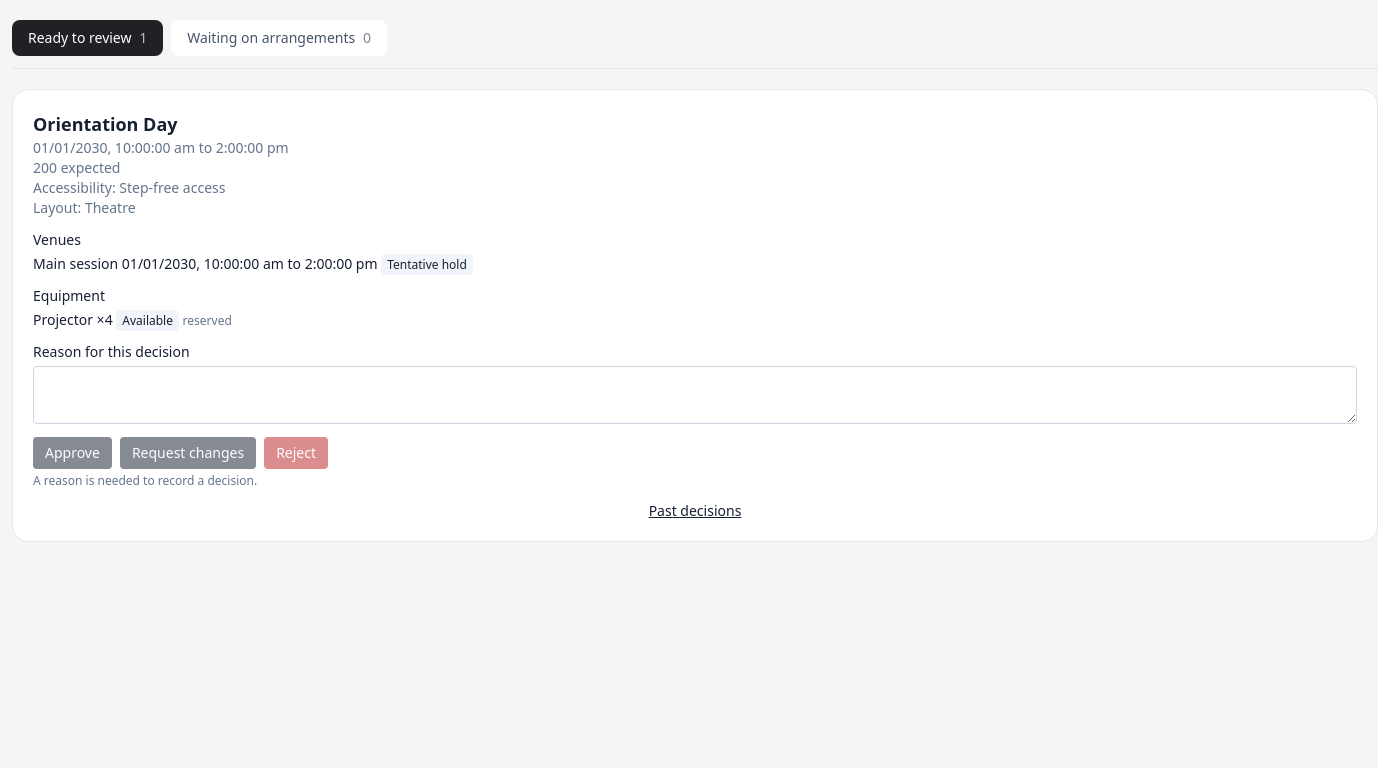
Test case: rejecting says the plan goes back to the Coordinator
Step 1. Type "Exit route is blocked." into the text box labelled "Reason for this decision" → (695,395), box [33,366,1357,424]
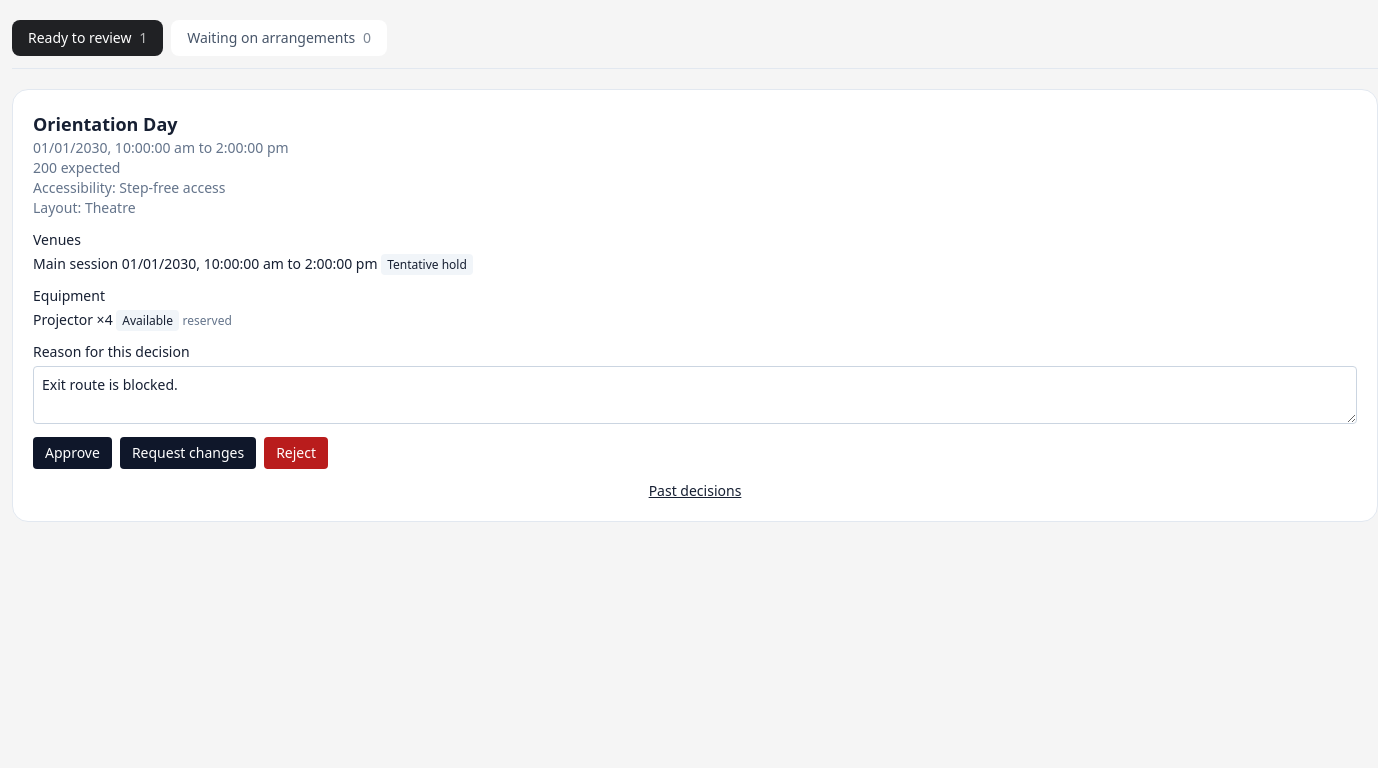
Step 2. Click the button with aria-label "Reject the plan for Orientation Day" → (296,453), box [264,437,328,469]
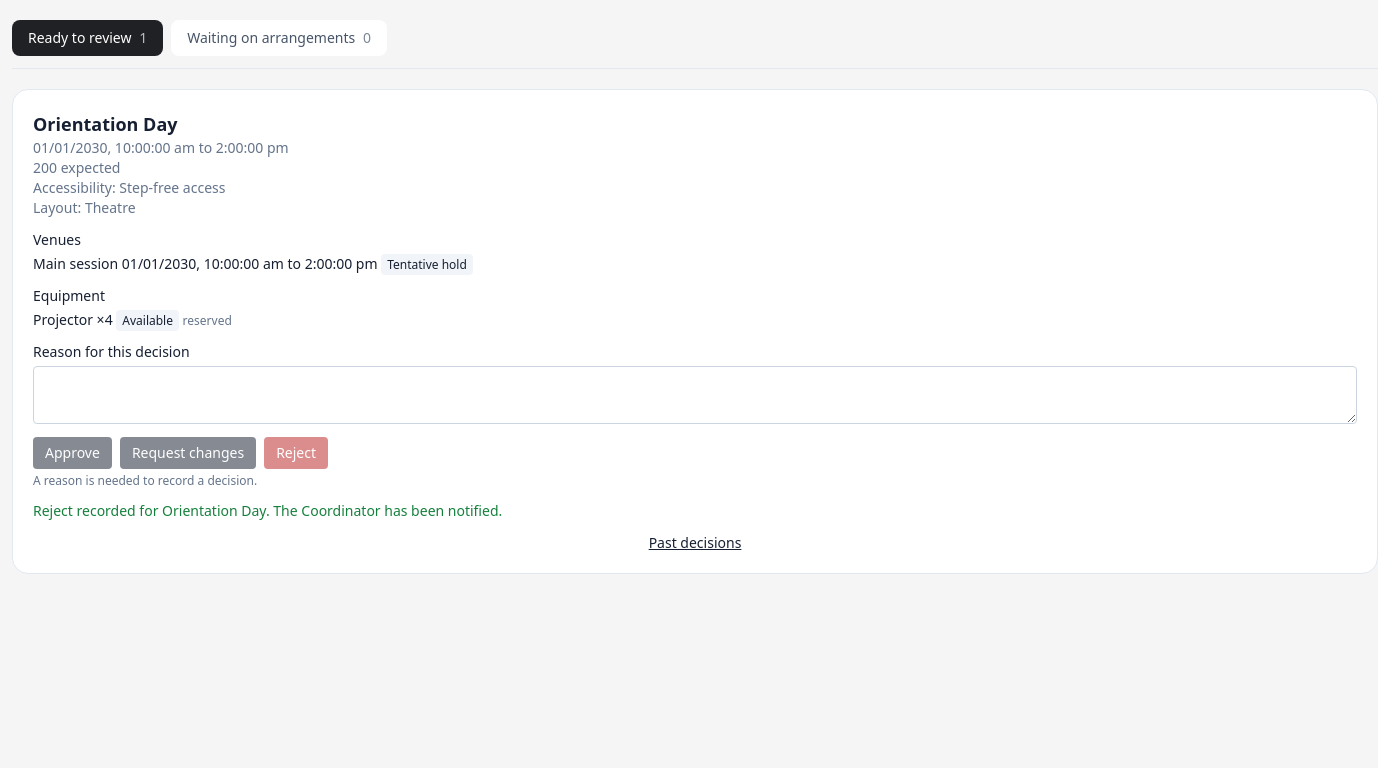
Now the message reads "Reject recorded for Orientation Day. The Coordinator has been notified.", box [33,501,502,520]
